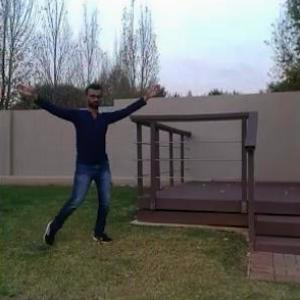takeoff: (0, 80, 145, 242)
